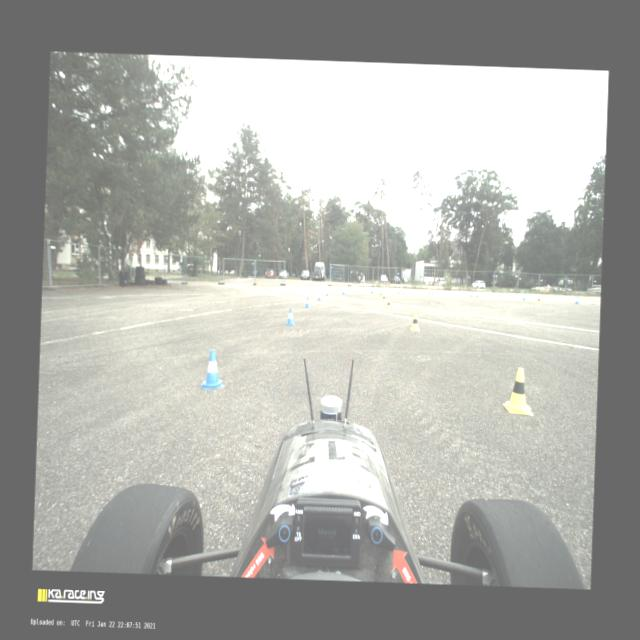blue_cone: (200, 349, 224, 390), (285, 308, 295, 326), (304, 296, 310, 308), (574, 296, 579, 304), (317, 292, 321, 300), (522, 292, 526, 300), (370, 286, 373, 294), (342, 288, 345, 294), (402, 288, 405, 294), (430, 289, 433, 295), (470, 291, 473, 297), (326, 288, 328, 296)
yellow_cone: (502, 366, 534, 416), (410, 313, 420, 331), (386, 298, 391, 310), (536, 296, 541, 304), (382, 294, 386, 302), (474, 292, 478, 300), (378, 291, 382, 298), (396, 289, 400, 296), (427, 290, 431, 297)
